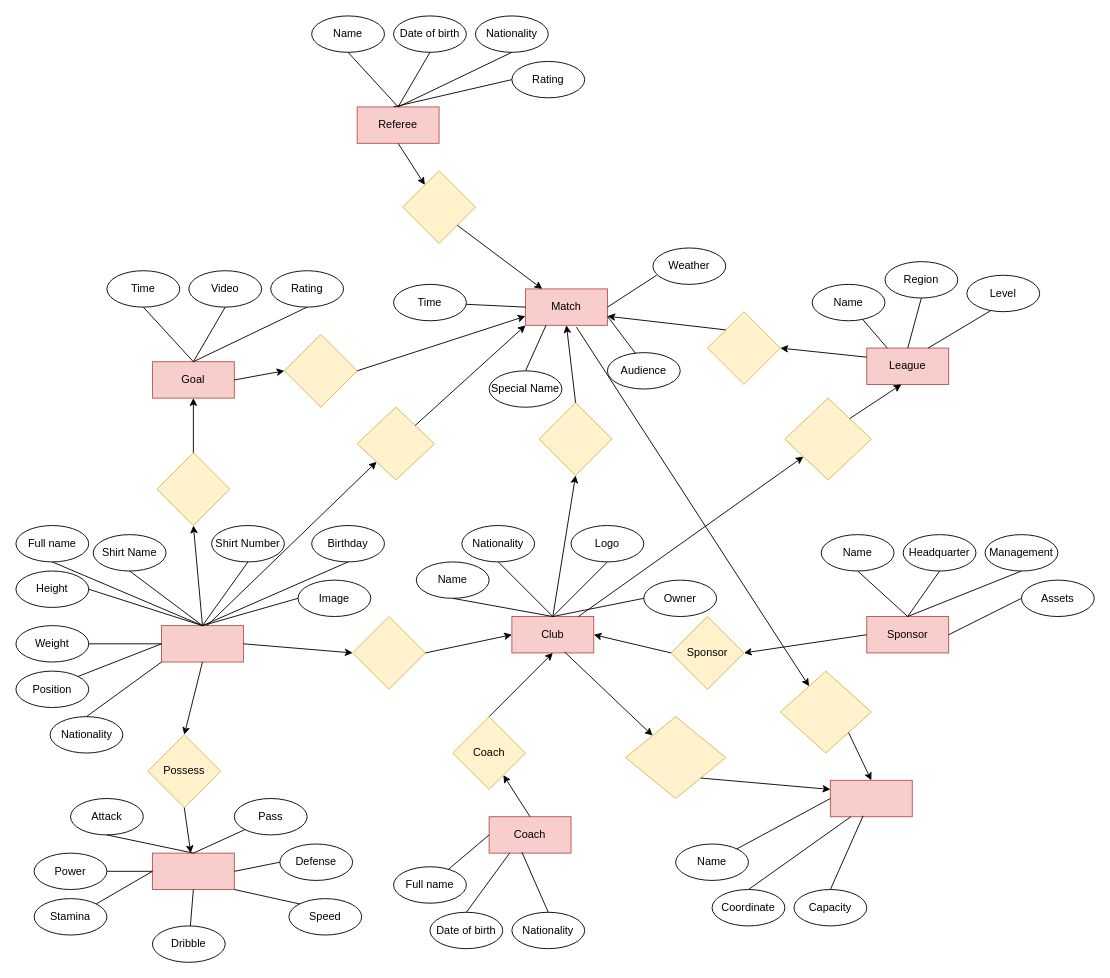
Image size: 1110x978. Some labels were removed from this diagram. The box of each missing label's shape, as (x1, y1, x2, y2) in pixels:
Attribute: (152, 852, 234, 890)
Be MOTM in: (356, 406, 435, 480)
Contain: (707, 311, 780, 384)
Control: (402, 170, 475, 243)
Happen in: (283, 334, 357, 407)
Own: (625, 716, 726, 799)
Particaipate in: (784, 397, 871, 480)
Play for: (352, 616, 425, 689)
Play in: (538, 402, 612, 475)
Player: (161, 625, 243, 662)
Score: (156, 452, 230, 526)
Stadium: (829, 779, 912, 817)
Take place on: (779, 670, 871, 753)
